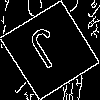J: (25, 25, 71, 78)
